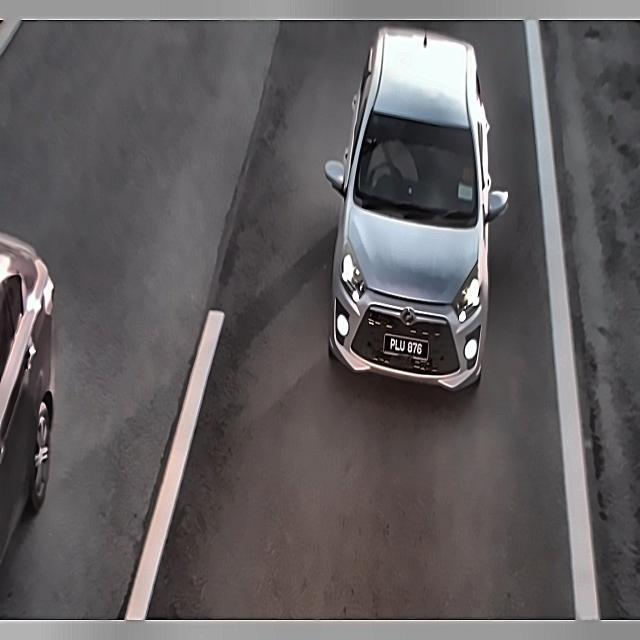car: (382, 328, 432, 367)
